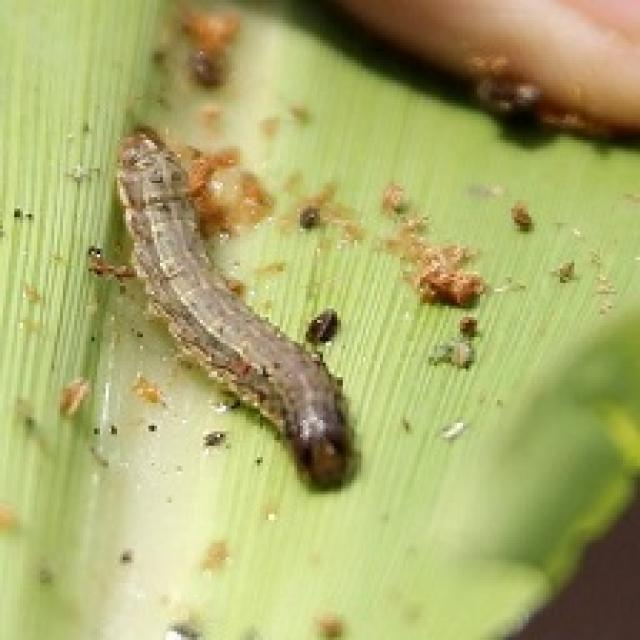worm: (113, 124, 356, 489)
